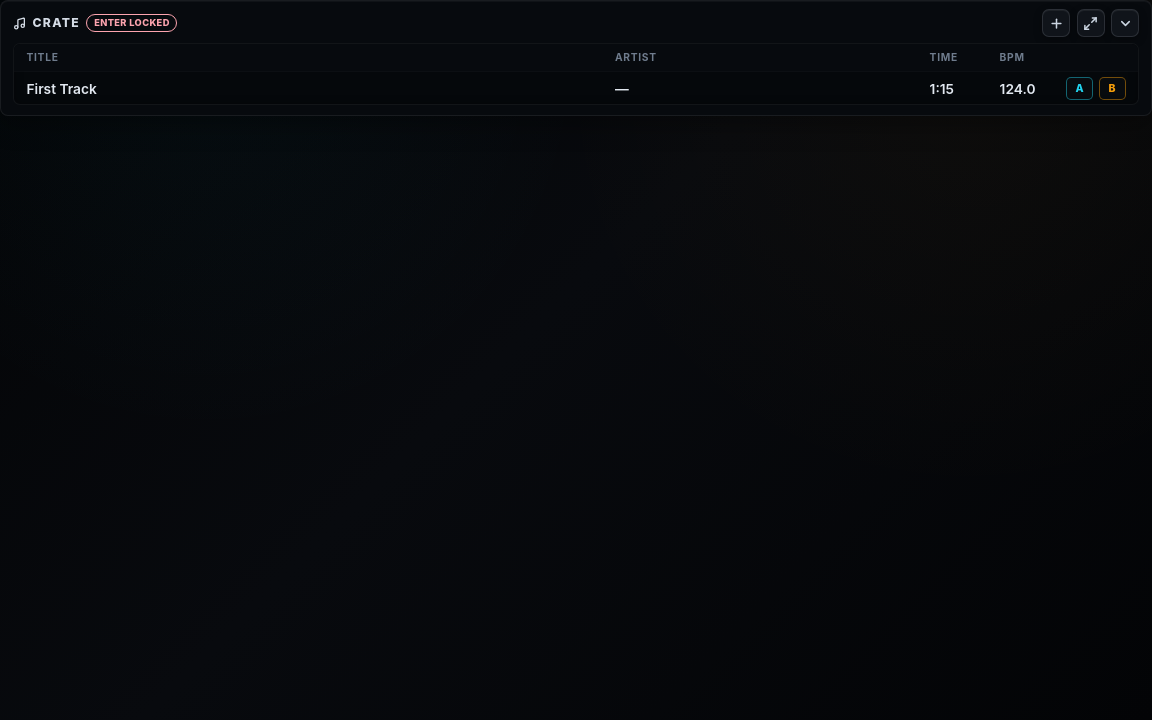
it: LibraryPanel › blocks Enter when neither deck is a safe automatic target
Expected: the text "Enter locked" is shown, [86,14,178,32]
Click the button named "Expand crate".
click(1091, 23)  # box [1077,9,1105,37]
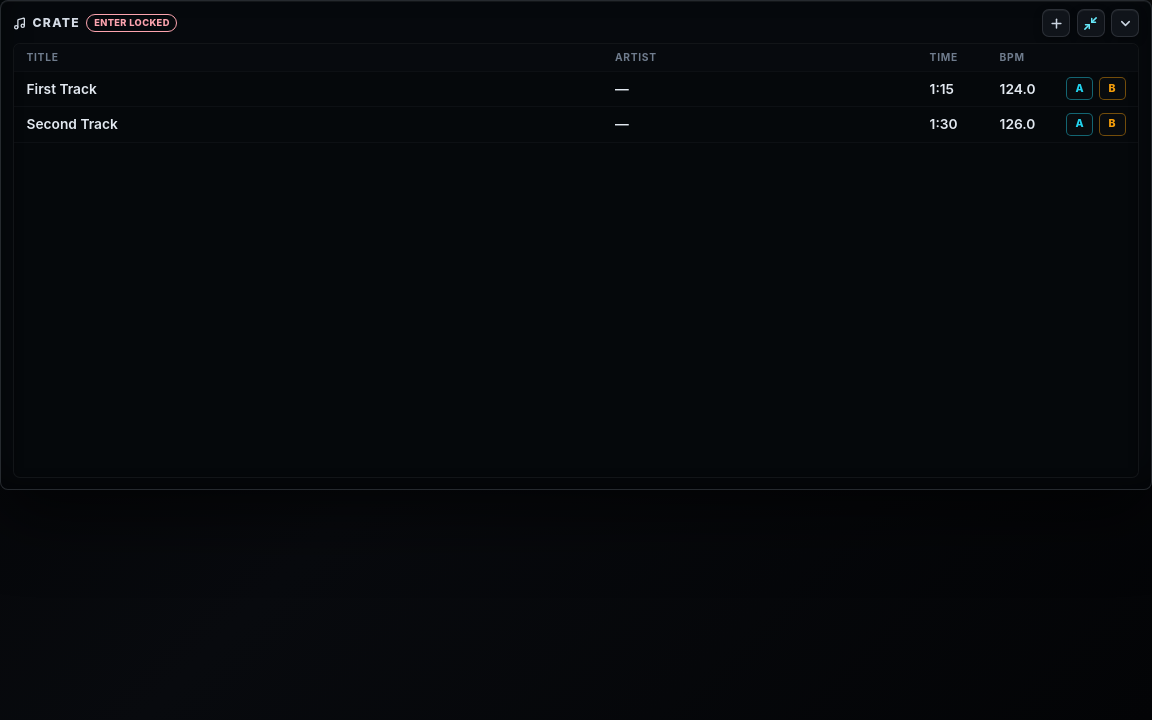
Press Enter in the row named "First Track. Enter loading is locked until a deck is safely off-air", box [14,71,1138,107]
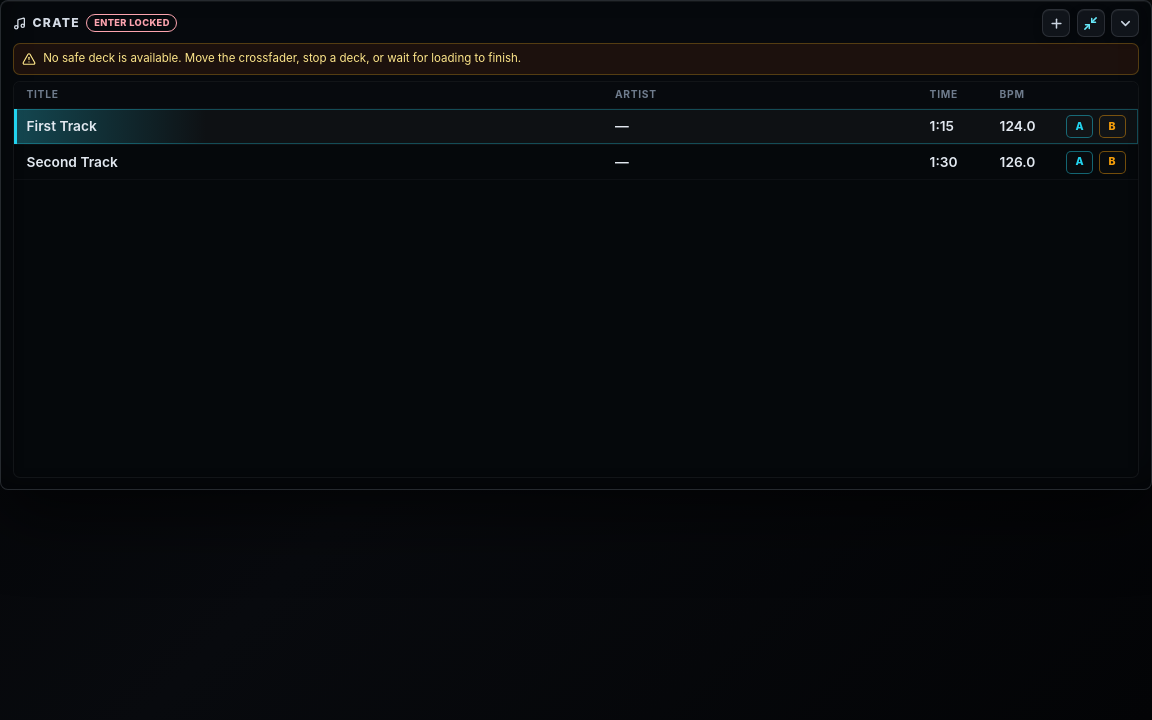
Expected: the message shows "No safe deck is available. Move the crossfader, stop a deck, or wait for loading to finish.", [43,52,521,66]
